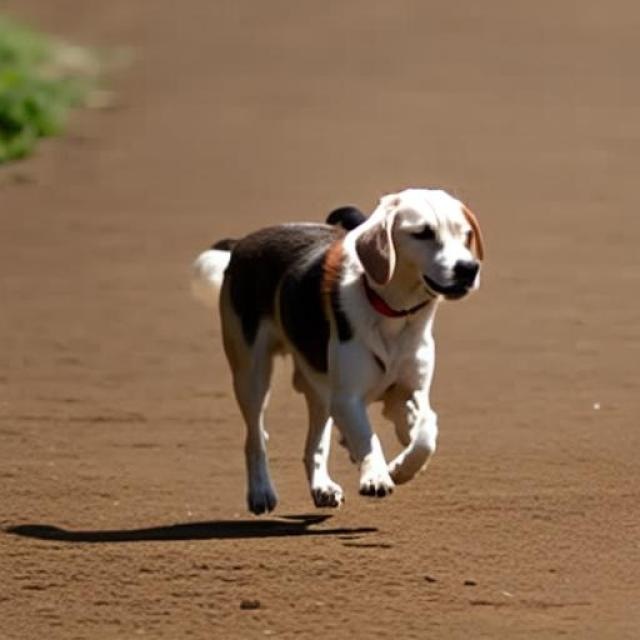Dog: (188, 188, 488, 518)
